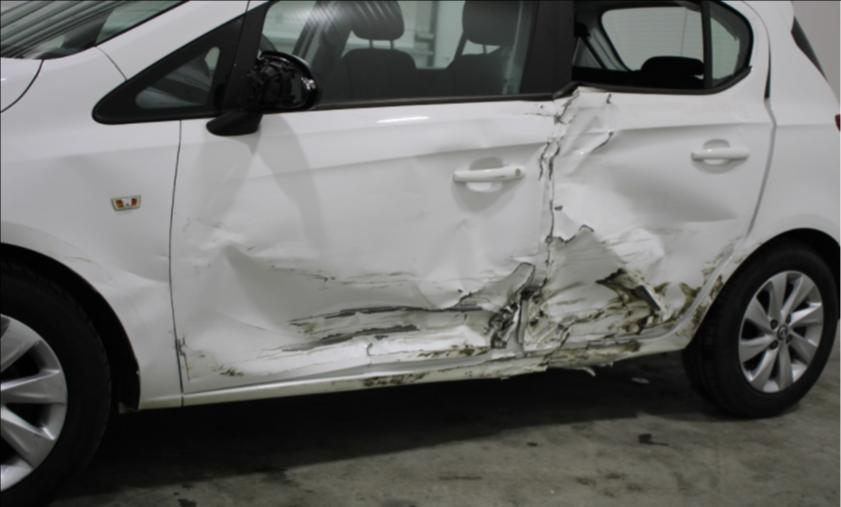Broken part: (169, 100, 557, 393), (180, 262, 732, 407), (522, 59, 777, 355), (208, 51, 321, 133)
Dent: (175, 214, 729, 386), (550, 153, 736, 323), (59, 228, 166, 372), (539, 95, 630, 178), (535, 175, 614, 252), (233, 239, 322, 271), (123, 270, 170, 291), (150, 251, 177, 261), (184, 373, 198, 383)
Paint chip: (540, 267, 667, 367), (421, 261, 533, 359), (326, 356, 535, 385), (282, 322, 420, 352), (234, 343, 355, 363), (325, 305, 482, 319), (559, 311, 600, 346), (539, 282, 585, 304), (680, 304, 709, 336), (445, 268, 498, 285), (544, 177, 556, 247), (554, 90, 578, 124), (547, 134, 563, 181), (634, 283, 661, 310), (559, 224, 595, 243), (538, 135, 553, 180), (512, 268, 534, 296), (588, 130, 614, 152), (522, 267, 539, 299), (289, 322, 328, 335), (271, 265, 324, 274), (452, 291, 476, 306), (533, 277, 545, 303), (556, 323, 570, 344), (710, 275, 723, 297), (552, 297, 583, 306), (701, 266, 714, 286), (514, 262, 534, 273), (506, 252, 539, 258), (366, 342, 373, 369), (486, 355, 516, 361), (557, 234, 576, 243), (183, 216, 192, 232), (524, 113, 554, 117), (567, 112, 576, 125), (388, 350, 423, 353), (597, 334, 610, 342), (366, 342, 374, 355), (543, 250, 549, 267), (529, 316, 537, 326), (374, 335, 387, 341), (461, 313, 467, 325), (405, 352, 416, 358), (539, 309, 547, 317), (606, 93, 611, 104), (554, 205, 564, 210), (246, 245, 256, 250), (539, 105, 543, 108), (458, 289, 461, 292)
Scratch: (655, 283, 698, 329), (174, 334, 190, 382), (260, 363, 322, 374), (344, 271, 416, 278), (312, 324, 357, 335), (338, 281, 388, 289), (207, 351, 225, 371), (219, 366, 246, 376), (727, 253, 745, 265), (618, 239, 652, 245), (58, 256, 90, 262), (256, 325, 279, 332), (200, 221, 222, 228), (189, 349, 205, 357), (370, 279, 412, 282), (749, 240, 760, 251), (578, 247, 605, 251), (169, 331, 175, 337), (318, 287, 328, 290), (330, 276, 335, 279)
